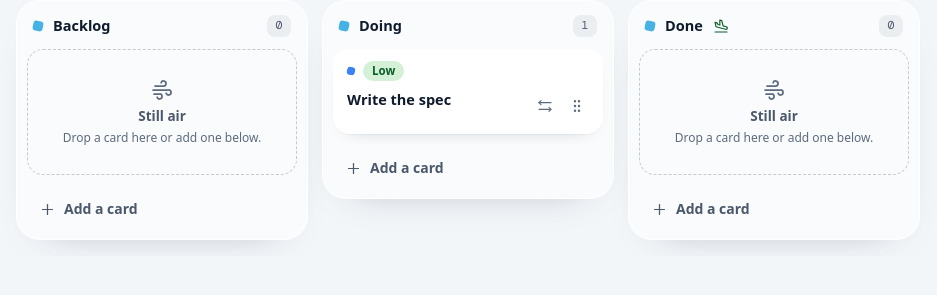
it: BoardColumns › the Move to menu › names every column of the board and marks the one the card is in
The image size is (937, 295).
Click the button named "Move Write the spec to another column".
click(545, 106)  # box [529,90,561,122]
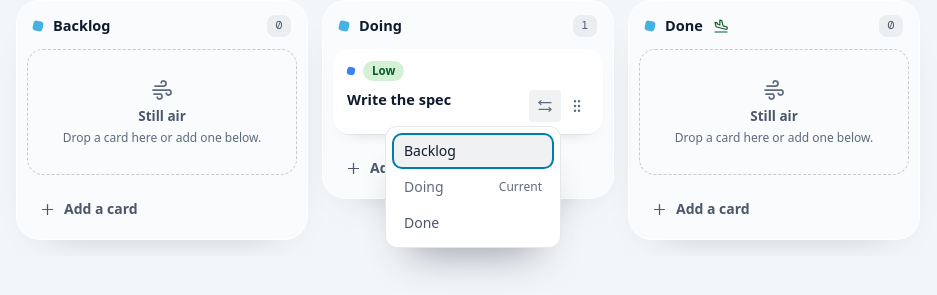
Result: the menu items read "Backlog", "DoingCurrent", "Done", in this order at [392,133,554,169]; [392,169,554,205]; [392,205,554,241]
